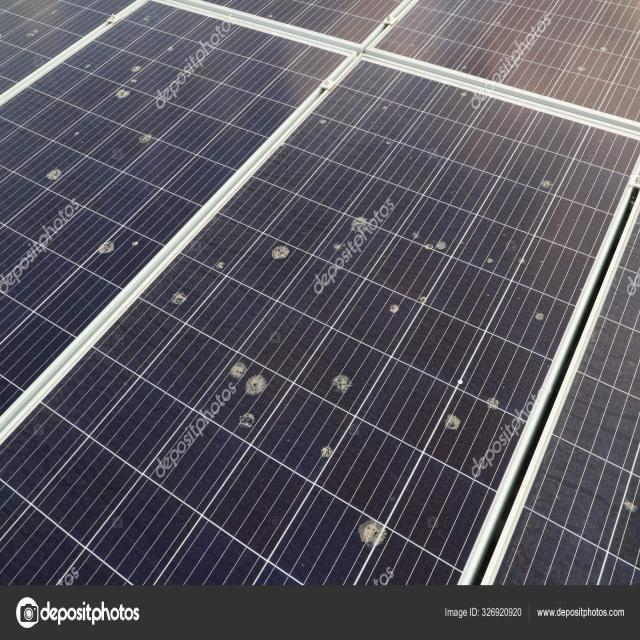dust-solar-panel: (0, 0, 640, 588)
